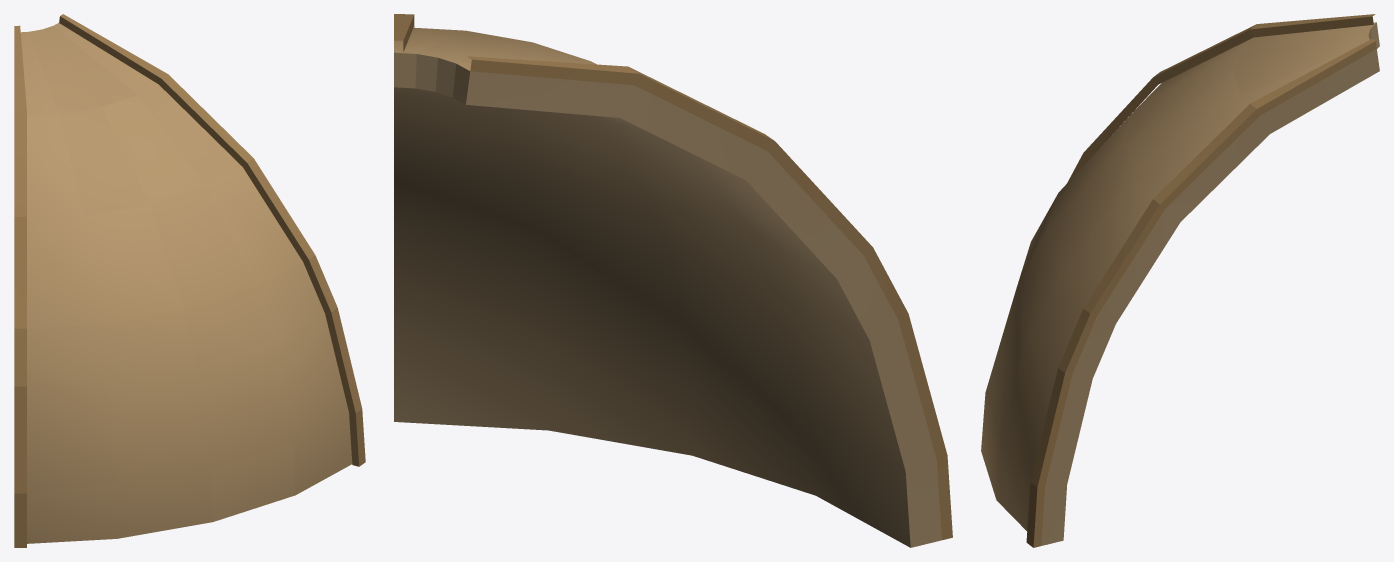
File: dome.panel_6.sandstone.glb
3 views of the same model, side by side, from view 1: azimuth 30°, elevation 25°; view 2: azimuth 150°, elevation 25°; view 3: azimuth 270°, elevation 25° (orthographic). The views are drawn at different scales.
Parts seen in each view (by area): view 1: dome_panel_6_sandstone; view 2: dome_panel_6_sandstone; view 3: dome_panel_6_sandstone.
Part boxes in pixels (x1,y1,x2,y2): dome_panel_6_sandstone: [14, 14, 365, 547]; dome_panel_6_sandstone: [394, 14, 952, 547]; dome_panel_6_sandstone: [981, 14, 1379, 547].
Size of what is drawn, in the model's own units: 3.57 by 3.63 by 3.1.
